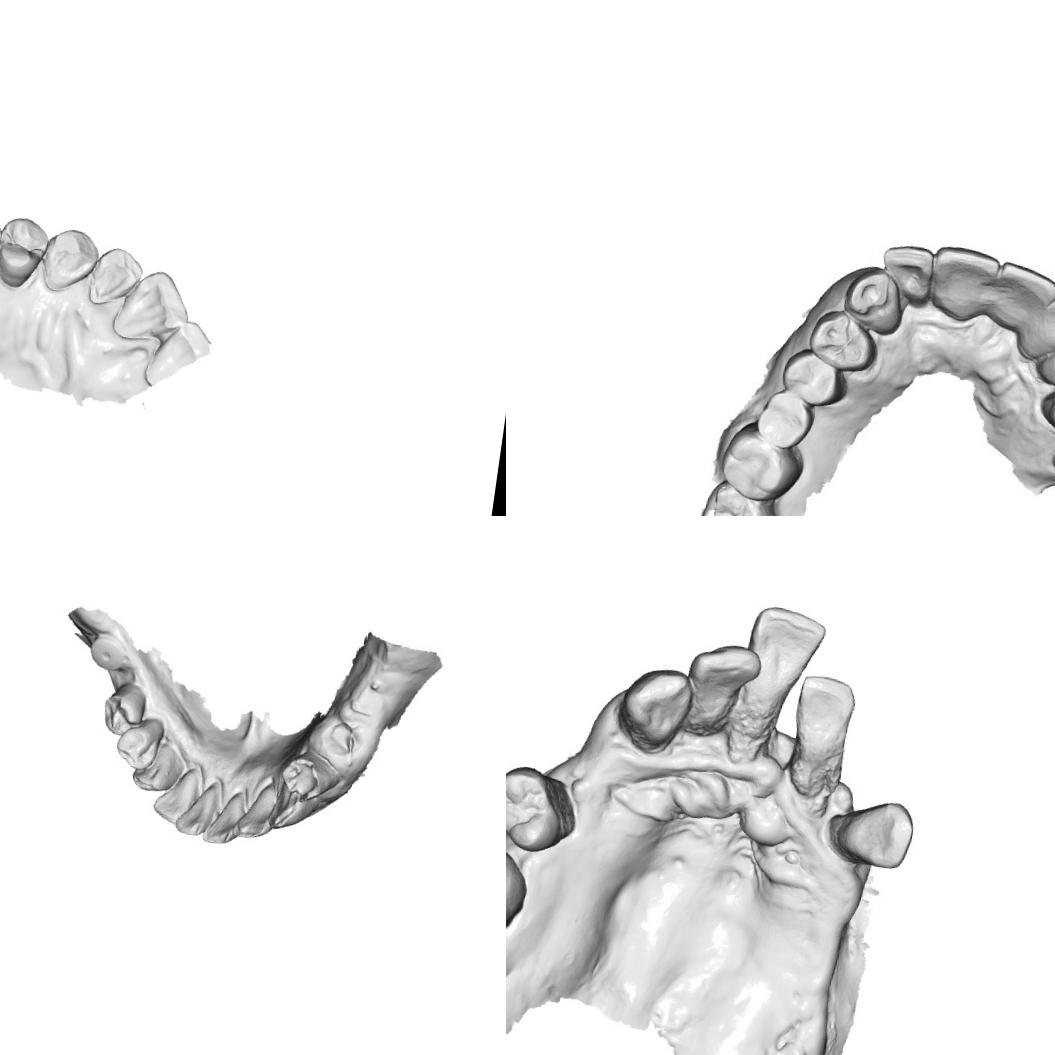canine: (831, 792, 916, 874), (618, 662, 698, 745), (36, 222, 104, 297), (842, 266, 906, 336), (111, 712, 167, 774), (129, 740, 187, 797), (265, 775, 320, 834), (1037, 333, 1055, 404)
implant: (86, 630, 129, 675)
incisor: (744, 594, 828, 707), (109, 264, 198, 348), (684, 639, 764, 715), (789, 670, 860, 748), (929, 243, 1002, 318), (985, 256, 1055, 333), (82, 242, 148, 312), (879, 238, 938, 306), (1022, 287, 1055, 364), (230, 792, 278, 842), (149, 778, 195, 826), (173, 792, 217, 839), (169, 318, 213, 362), (201, 801, 242, 847)
molar: (715, 420, 810, 506), (506, 815, 539, 940)
premolar: (506, 761, 575, 858), (803, 305, 882, 375), (776, 346, 848, 412), (750, 386, 817, 456), (0, 213, 52, 294), (276, 747, 344, 804), (98, 680, 148, 737), (1038, 384, 1055, 449)
